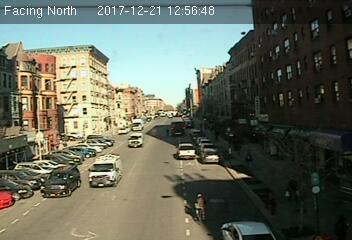bicycle: (192, 192, 208, 227)
car: (40, 165, 81, 197), (177, 143, 196, 160), (202, 149, 220, 163)
truck: (88, 155, 122, 187), (129, 133, 143, 147)
ups: (170, 121, 185, 136)
